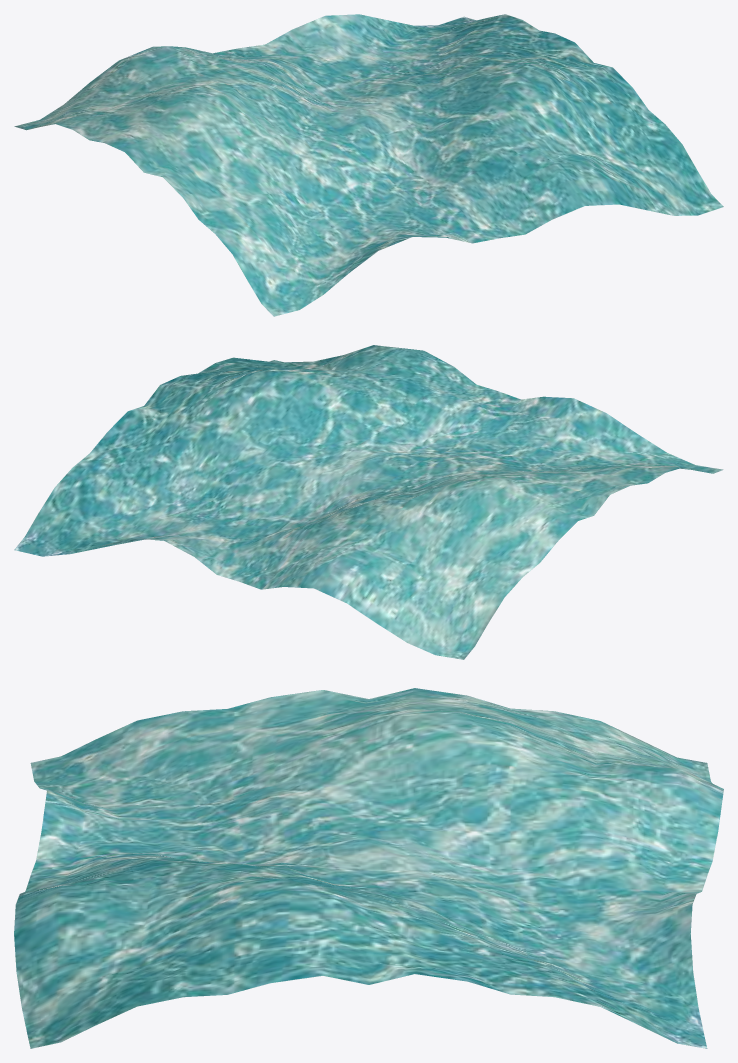
The model's file is water_000171.obj.
3 renders of one model, top to bottom at view 1: azimuth 30°, elevation 25°; view 2: azimuth 150°, elevation 25°; view 3: azimuth 270°, elevation 25°, orthographic. The views are drawn at different scales.
Parts seen in each view (by area): view 1: Plan.003_Plan.001; view 2: Plan.003_Plan.001; view 3: Plan.003_Plan.001.
Part boxes in pixels (<box>): Plan.003_Plan.001: <box>14,14,723,316</box>; Plan.003_Plan.001: <box>14,345,723,659</box>; Plan.003_Plan.001: <box>14,688,723,1048</box>.
Bounding box in the file's own units: 60714 × 9980 × 63295.
1 material, 1 textured.
